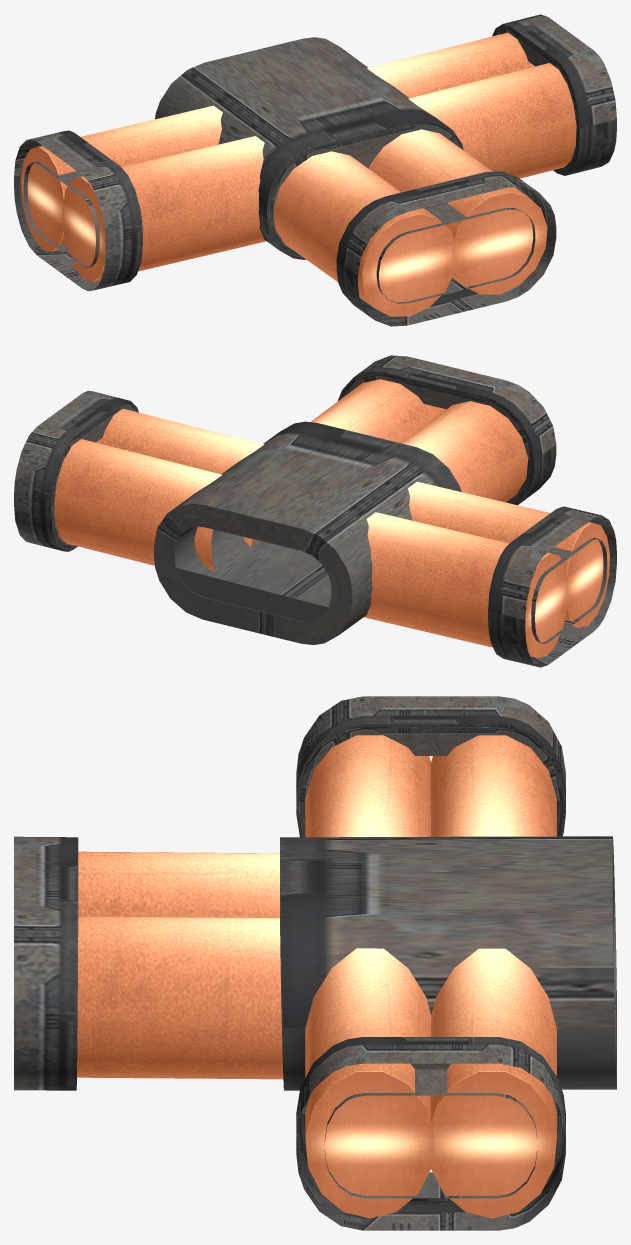
File: heat-pipe-t-down.glb
3 renders of one model, top to bottom at view 1: azimuth 30°, elevation 25°; view 2: azimuth 150°, elevation 25°; view 3: azimuth 270°, elevation 25°, orthographic. The views are drawn at different scales.
Parts seen in each view (by area): view 1: heat-pipe-t-down; view 2: heat-pipe-t-down; view 3: heat-pipe-t-down.
Boxes of the visible parts, x1,y1,x2,y2 form: heat-pipe-t-down: [14, 14, 616, 326]; heat-pipe-t-down: [14, 355, 616, 667]; heat-pipe-t-down: [14, 696, 616, 1230].
Size of the model in its own units: 1 by 0.2136 by 0.6939.
Materials: 2 (2 with a texture image).
